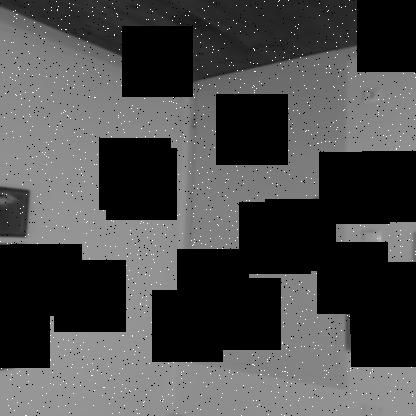Porte: (179, 46, 347, 389)
